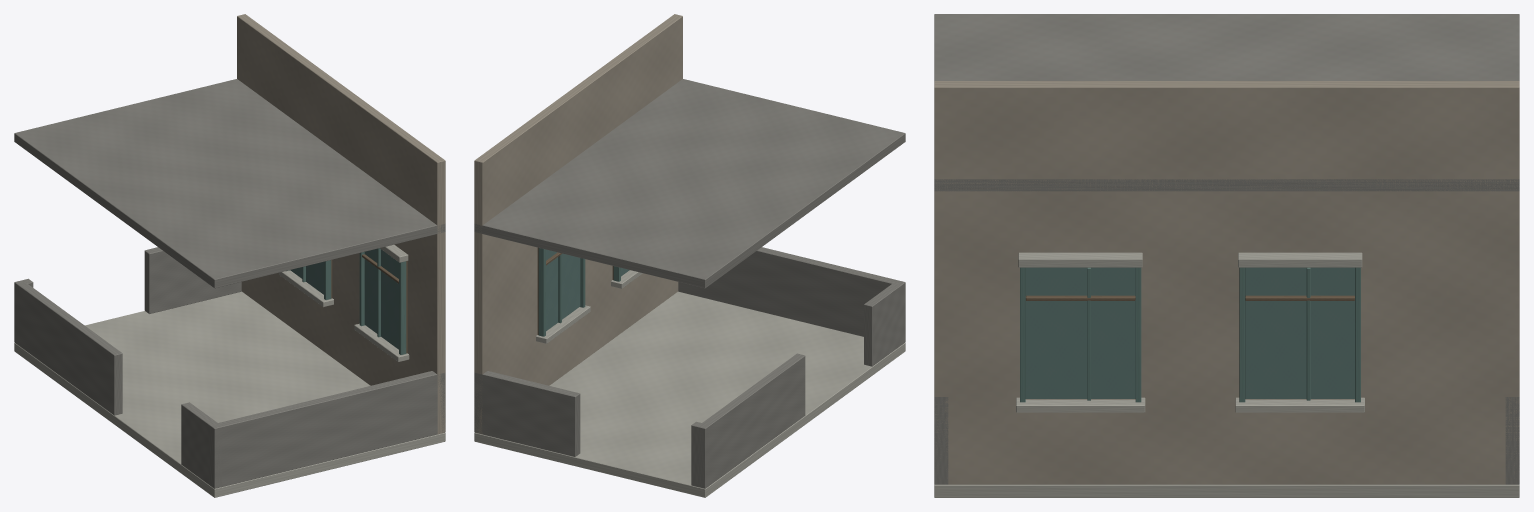
The model's file is U04_OffsetGalleryLanding_visual.glb.
3 renders of one model, left to right at view 1: azimuth 30°, elevation 25°; view 2: azimuth 150°, elevation 25°; view 3: azimuth 270°, elevation 25°, orthographic. The views are drawn at different scales.
Visible parts, largest first — view 1: U04_OffsetGalleryLanding__VIS_shell, U04_OffsetGalleryLanding__VIS_roof; view 2: U04_OffsetGalleryLanding__VIS_shell, U04_OffsetGalleryLanding__VIS_roof; view 3: U04_OffsetGalleryLanding__VIS_shell, U04_OffsetGalleryLanding__VIS_roof.
Boxes of the visible parts, x1=… form: U04_OffsetGalleryLanding__VIS_shell: x1=14, y1=14, x2=445, y2=497; U04_OffsetGalleryLanding__VIS_roof: x1=14, y1=79, x2=445, y2=288; U04_OffsetGalleryLanding__VIS_shell: x1=474, y1=14, x2=905, y2=497; U04_OffsetGalleryLanding__VIS_roof: x1=474, y1=79, x2=905, y2=288; U04_OffsetGalleryLanding__VIS_shell: x1=934, y1=81, x2=1519, y2=497; U04_OffsetGalleryLanding__VIS_roof: x1=934, y1=14, x2=1519, y2=191.
Bounding box in the file's own units: 16.76 × 18.6 × 24.
Materials: 1 (1 with a texture image).
